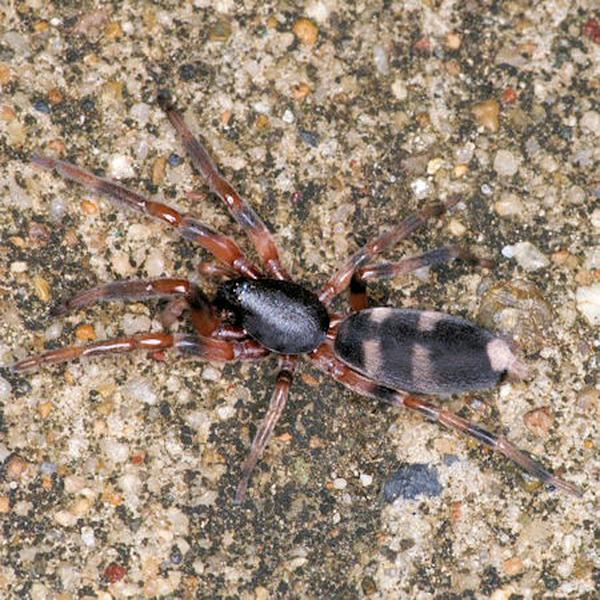White-Tailed Spider: (39, 111, 572, 536)
